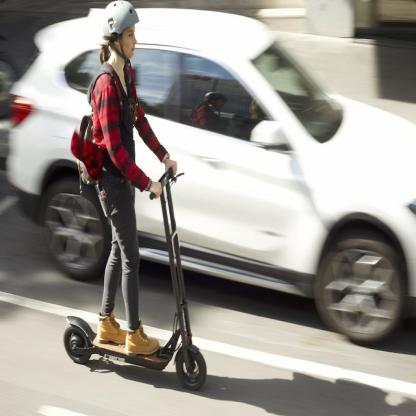scooter: (63, 166, 207, 390)
with helmet: (102, 0, 141, 63)
